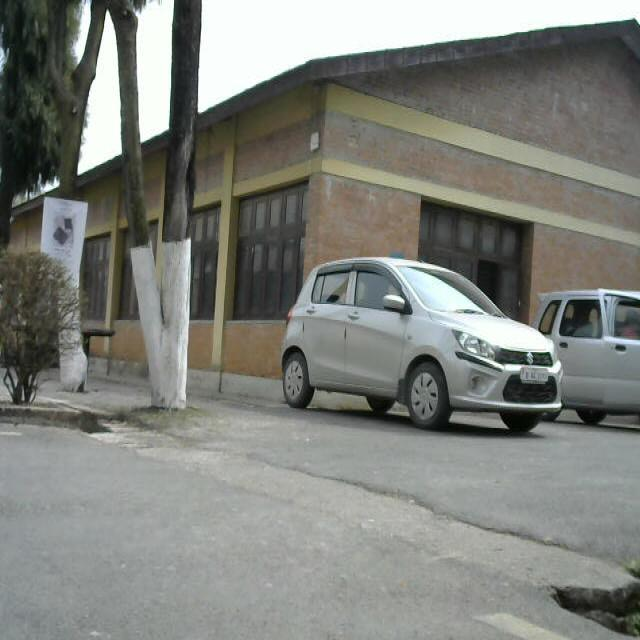Buildings: (184, 69, 640, 312)
Car: (272, 237, 640, 431)
Road: (0, 433, 640, 640)
trees: (1, 2, 230, 420), (3, 242, 96, 414)
